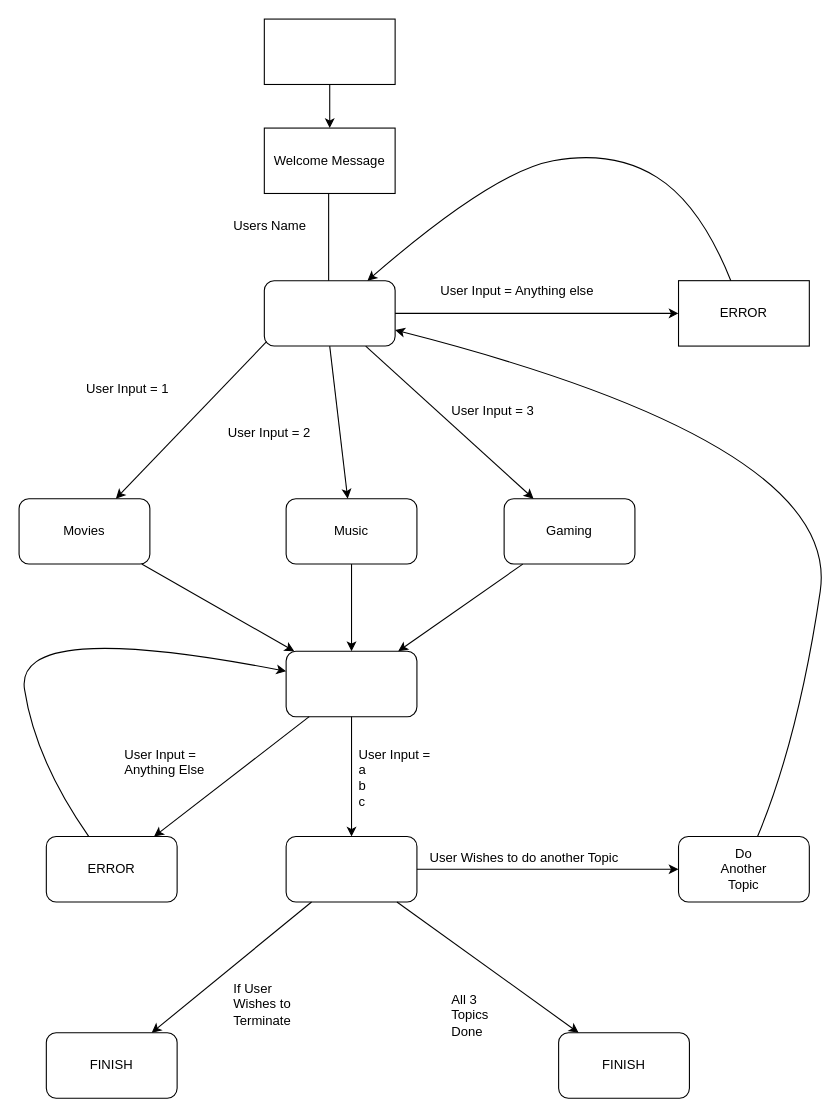
Some shapes in this 840 by 1117 pixel diagram are drawn without their labels. The box of each missing label's shape, as (x1, y1, x2, y2) in pixels:
Question Section: (285, 650, 417, 717)
Scoring Section: (285, 835, 417, 902)
START: (263, 18, 395, 84)
Topic Selection: (263, 280, 395, 346)
